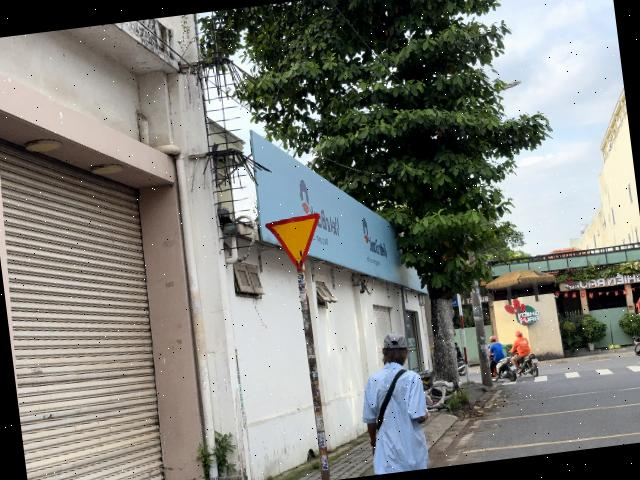giao-nhau-voi-duong-uu-tien: (263, 212, 326, 274)
